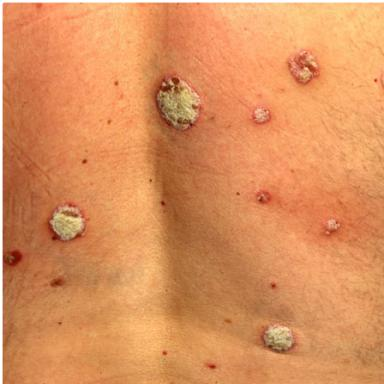Psoriasis: (157, 75, 201, 130), (48, 202, 85, 241), (288, 50, 319, 83), (263, 324, 295, 352), (253, 105, 270, 124), (324, 218, 341, 235), (256, 190, 270, 203)
